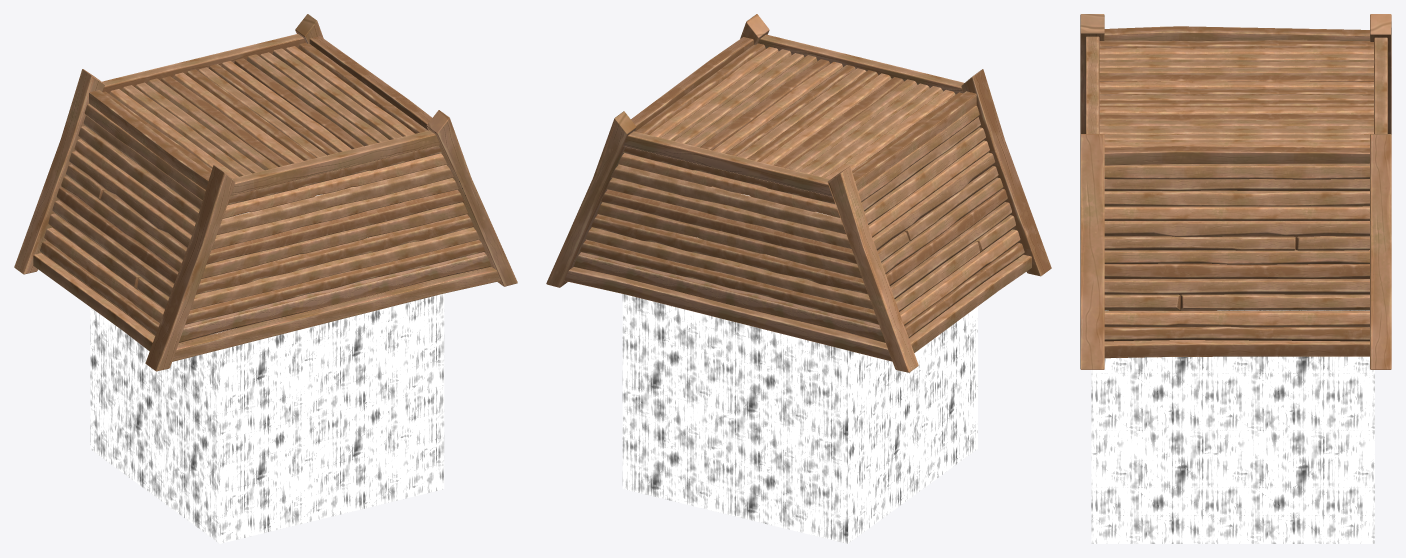
The model's file is SM_BuildingBase_06.fbx.
The picture shows the model from 3 angles, left to right: view 1: azimuth 30°, elevation 25°; view 2: azimuth 150°, elevation 25°; view 3: azimuth 270°, elevation 25°; orthographic projection. The views are drawn at different scales.
Parts seen in each view (by area): view 1: SM_BuildingBase_06_LOD0; view 2: SM_BuildingBase_06_LOD0; view 3: SM_BuildingBase_06_LOD0.
Part boxes in pixels (box(x1,y1,x2,y2)): SM_BuildingBase_06_LOD0: box(14, 14, 517, 543); SM_BuildingBase_06_LOD0: box(546, 14, 1051, 543); SM_BuildingBase_06_LOD0: box(1080, 14, 1391, 543).
Size of the model in its own units: 967 by 659 by 957.
3 materials, 3 textured.
